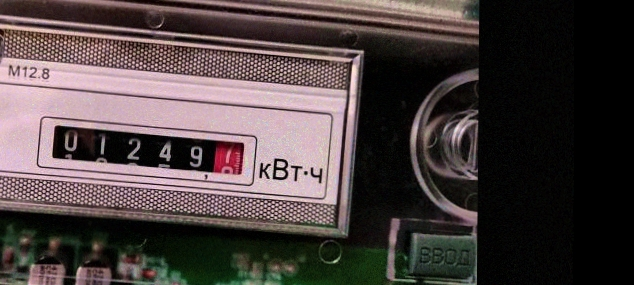0: (62, 126, 79, 152)
1: (94, 129, 108, 156)
2: (124, 136, 141, 162)
4: (157, 137, 173, 162)
7: (221, 139, 236, 165)
9: (186, 142, 203, 168)
screen: (34, 114, 259, 189)
